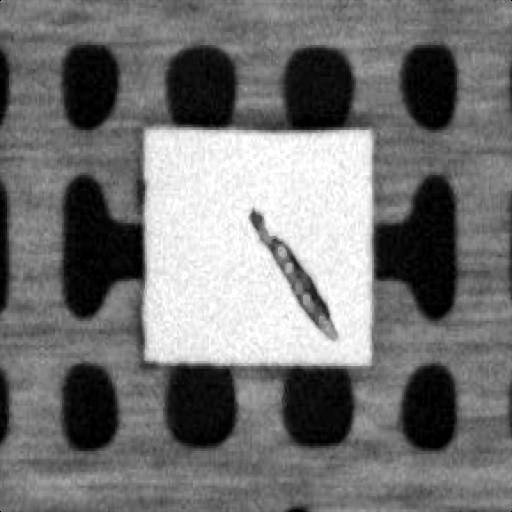DIE_INK: (356, 126, 512, 232)
